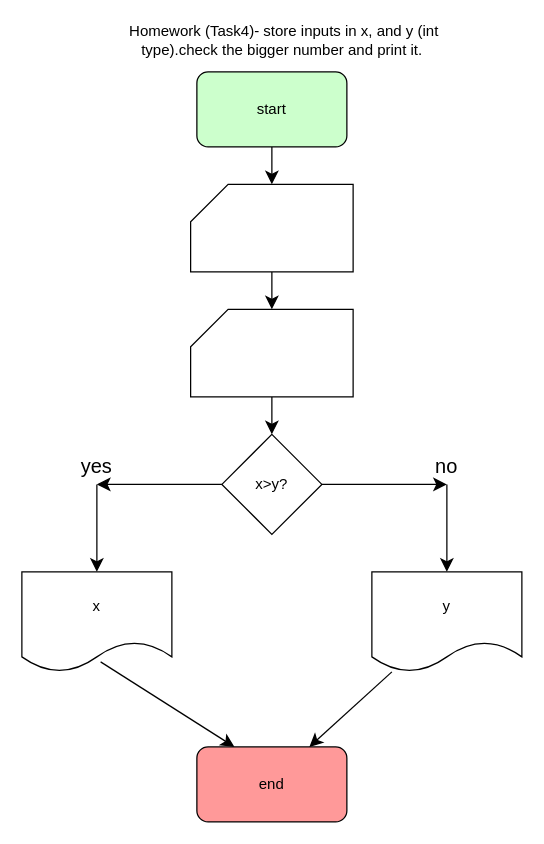
Some shapes in this 544 by 844 pixel diagram are drawn without their labels. The shapes that lost their labels are listed below. From the top down, each one's centre as x and y in pixels, then its label:
point 271,227: x: int: "enter the first integer number: "
point 271,352: y: int: "enter the second integer number: "
